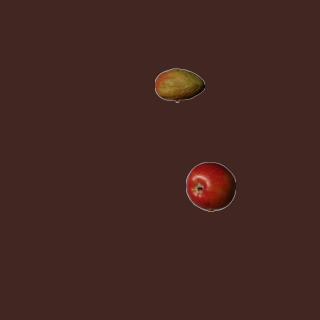Apple Braeburn: (185, 161, 235, 211)
Papaya: (154, 60, 204, 110)
